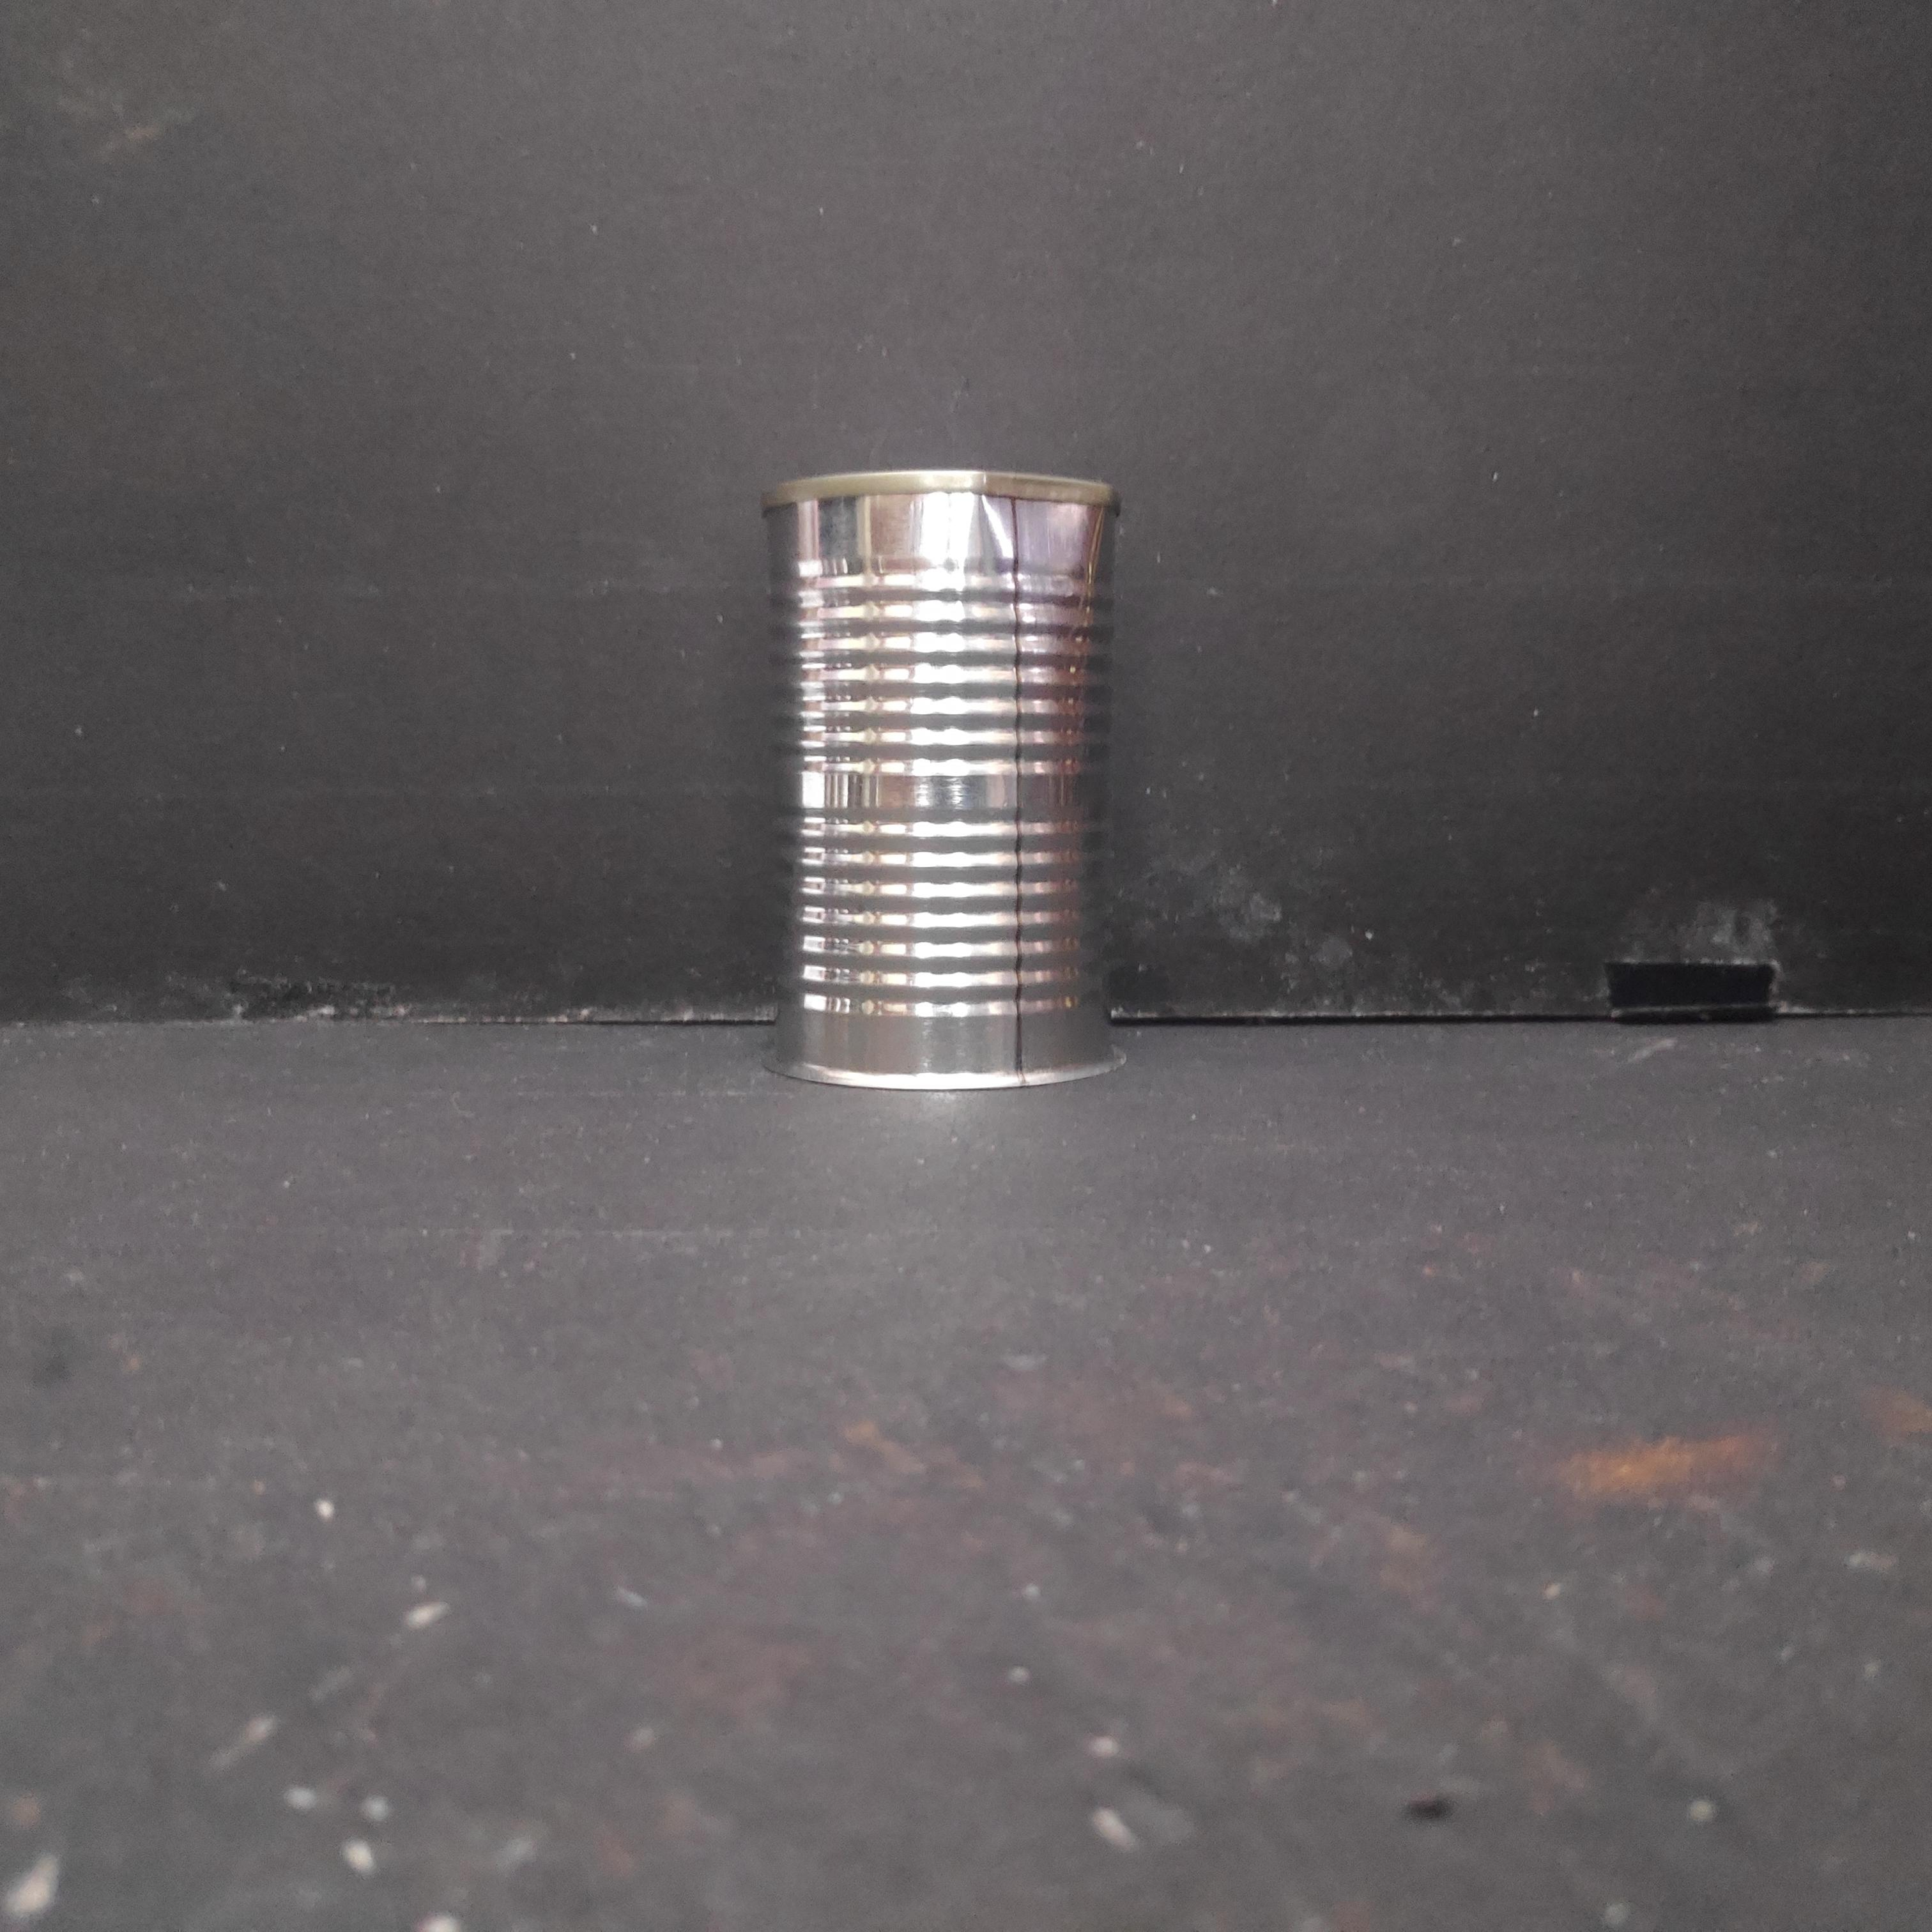Minor Defect: (755, 458, 1143, 1102)
